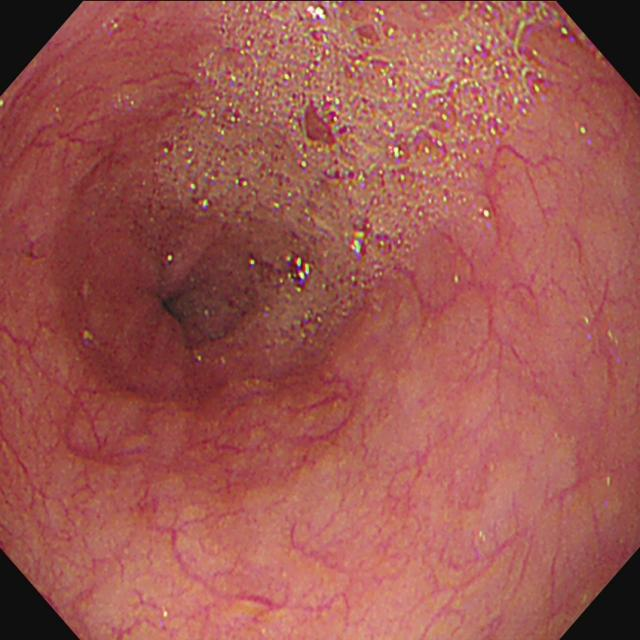E: (140, 282, 202, 347)
T: (157, 2, 548, 339)
U: (285, 254, 312, 292)
